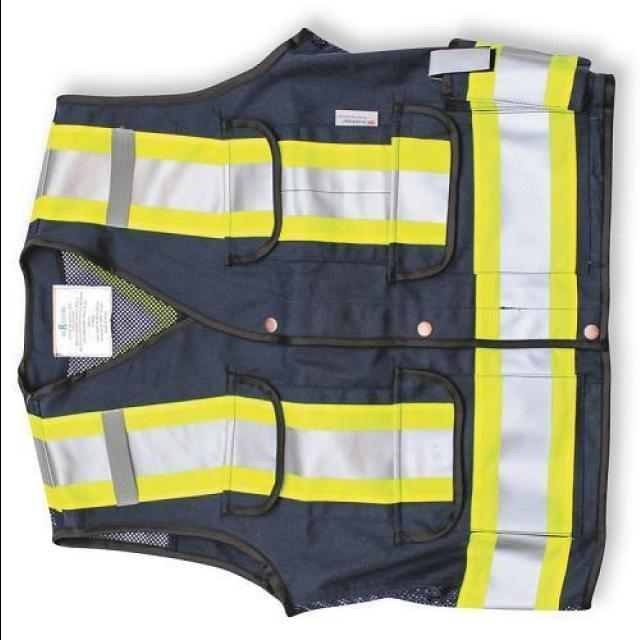jacket: (28, 23, 622, 635)
